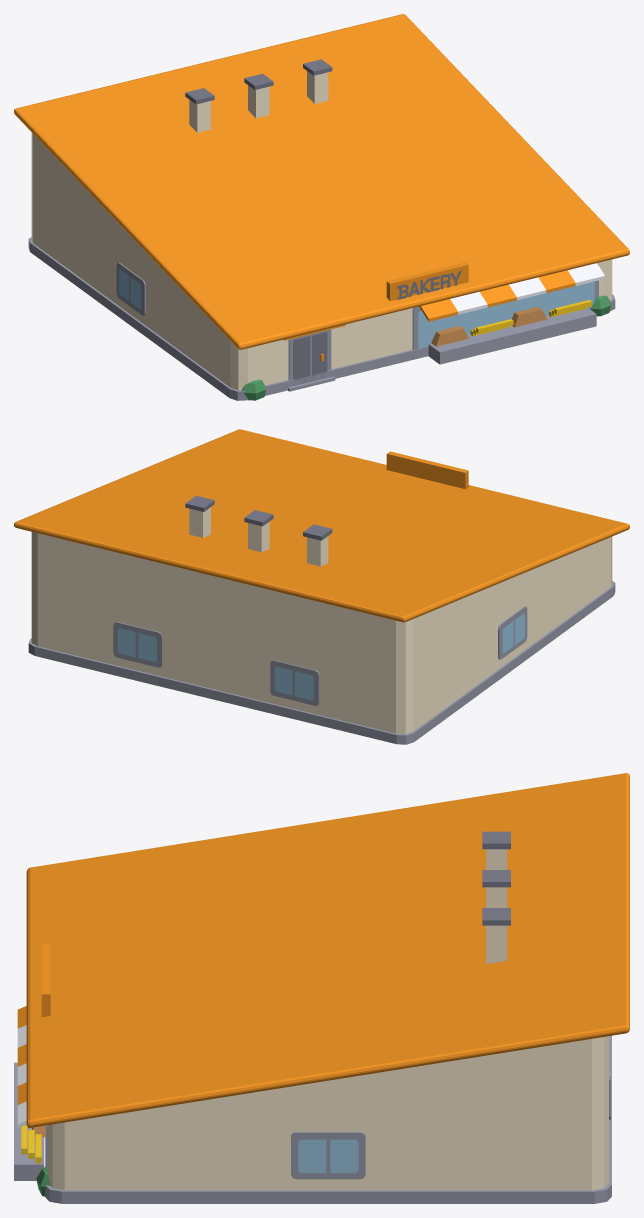
The model's file is bakery-2x2-t3-tone-a.glb.
3 renders of one model, top to bottom at view 1: azimuth 30°, elevation 25°; view 2: azimuth 150°, elevation 25°; view 3: azimuth 270°, elevation 25°, orthographic. The views are drawn at different scales.
Parts seen in each view (by area): view 1: bakery-2x2-t3-tone-a; view 2: bakery-2x2-t3-tone-a; view 3: bakery-2x2-t3-tone-a.
Boxes of the visible parts, x1=… form: bakery-2x2-t3-tone-a: x1=14, y1=14, x2=629, y2=400; bakery-2x2-t3-tone-a: x1=14, y1=429, x2=629, y2=744; bakery-2x2-t3-tone-a: x1=14, y1=773, x2=629, y2=1203.
Size of the model in its own units: 2 by 0.7426 by 2.04.
Materials: 1 (1 with a texture image).
